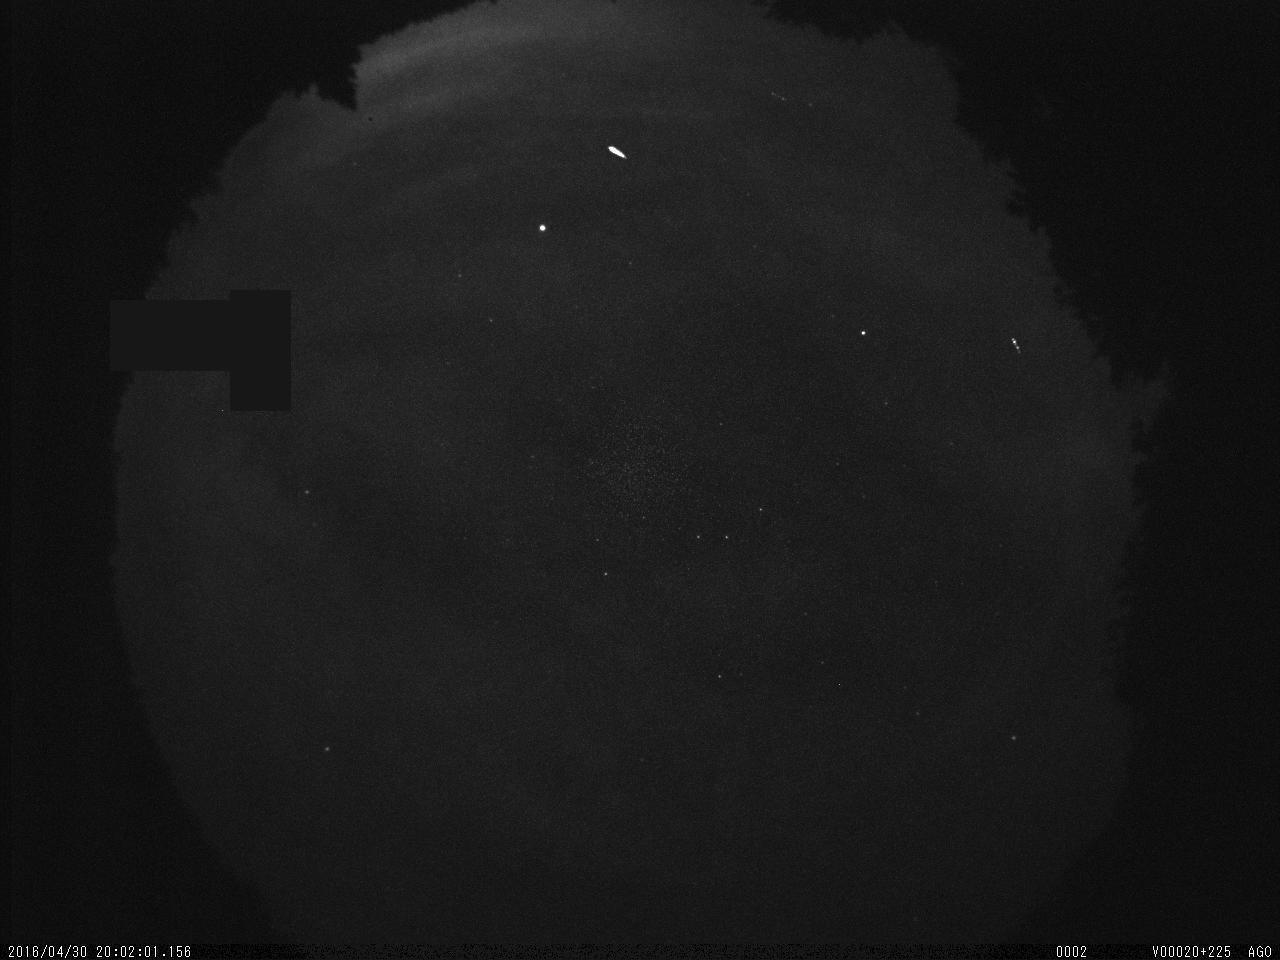Meteor: (602, 134, 640, 170)
